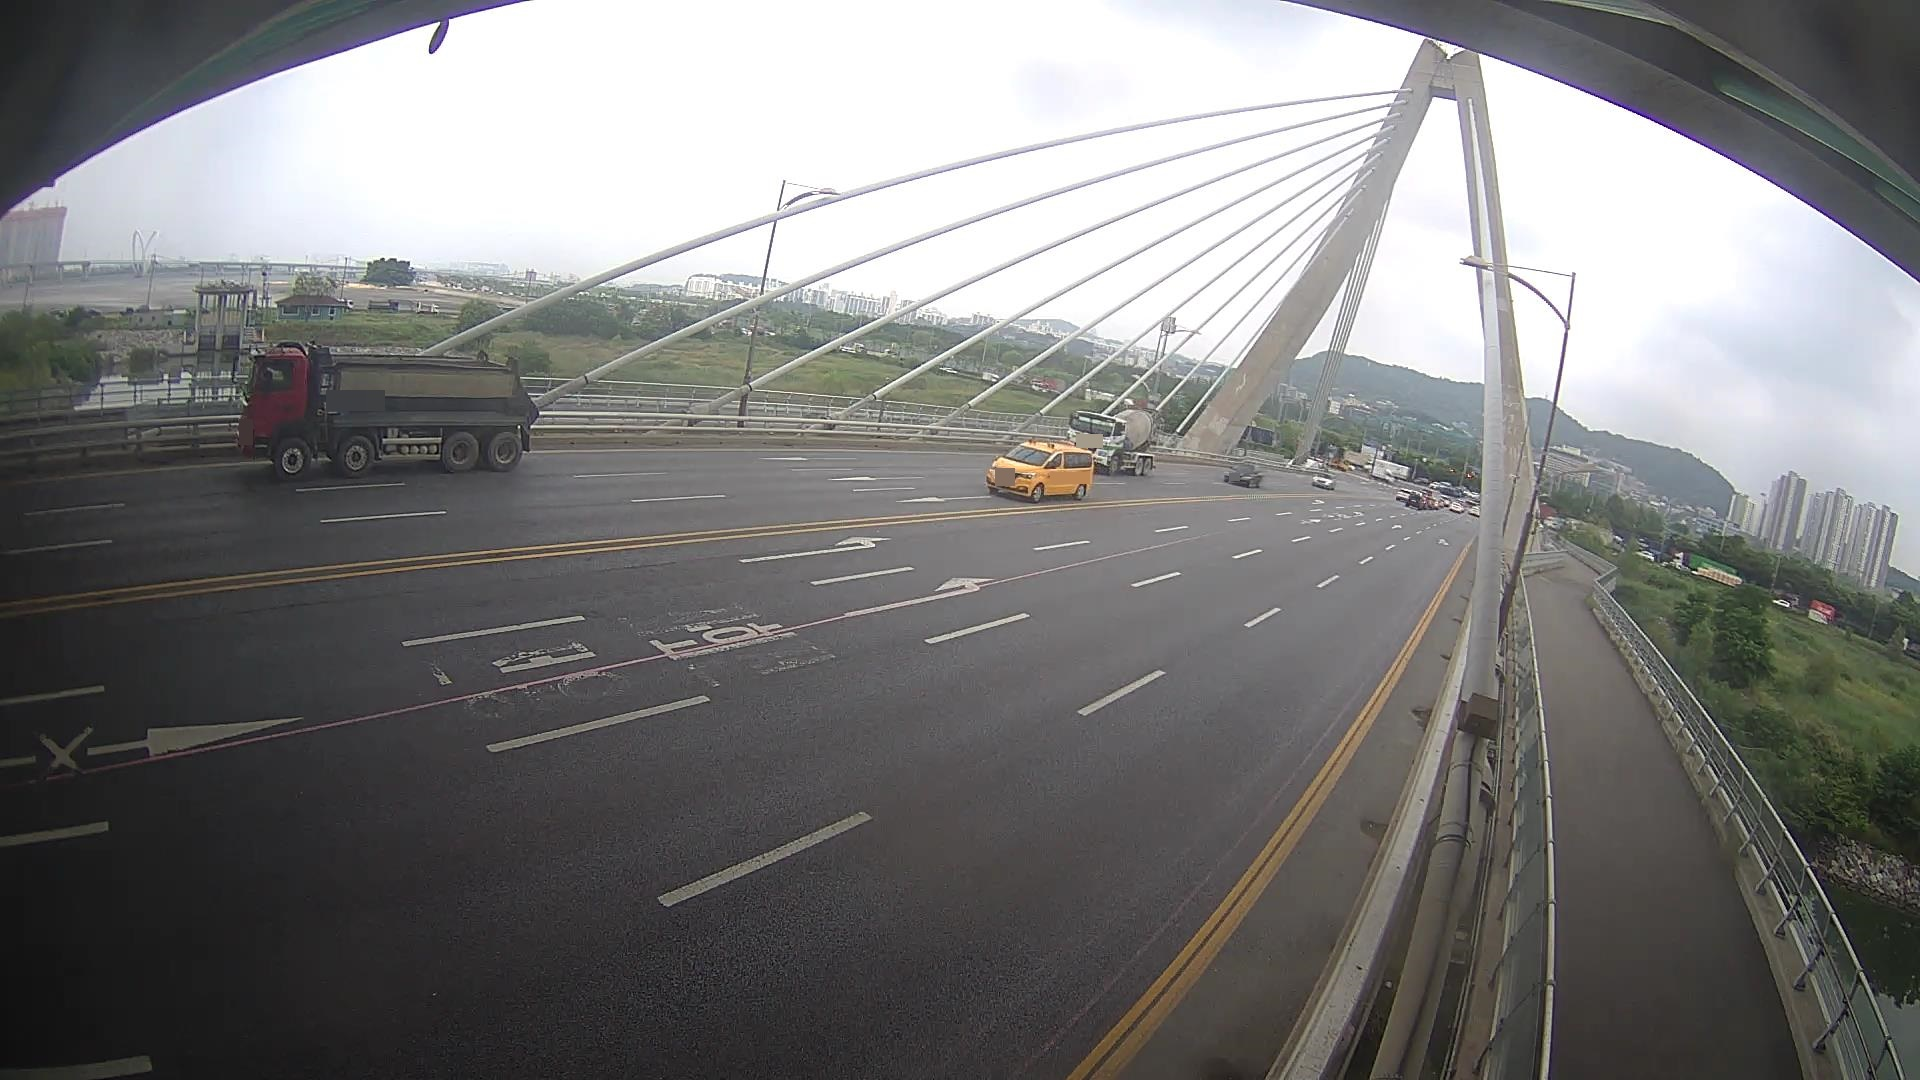정상차량: (232, 342, 538, 483)
